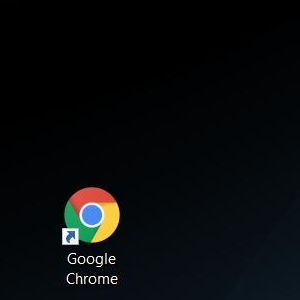chrome: (61, 187, 120, 245)
